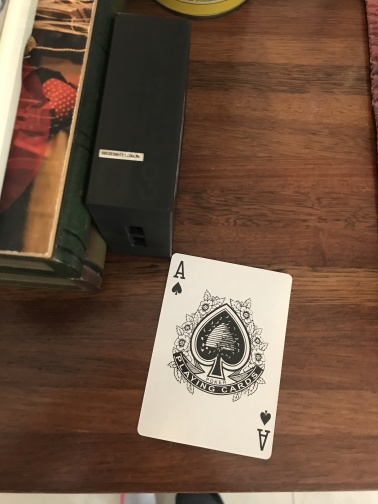ace: (135, 251, 295, 462)
